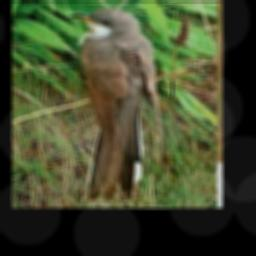Cuckoo: (69, 8, 157, 197)
